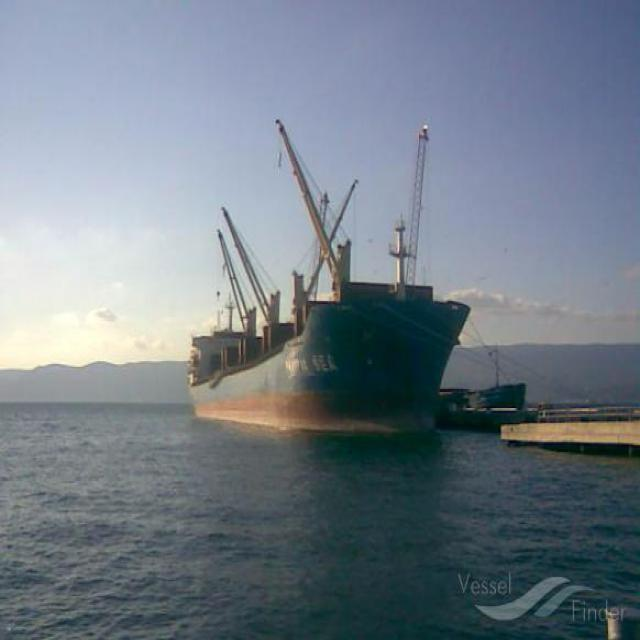OCR: (280, 354, 344, 376)
